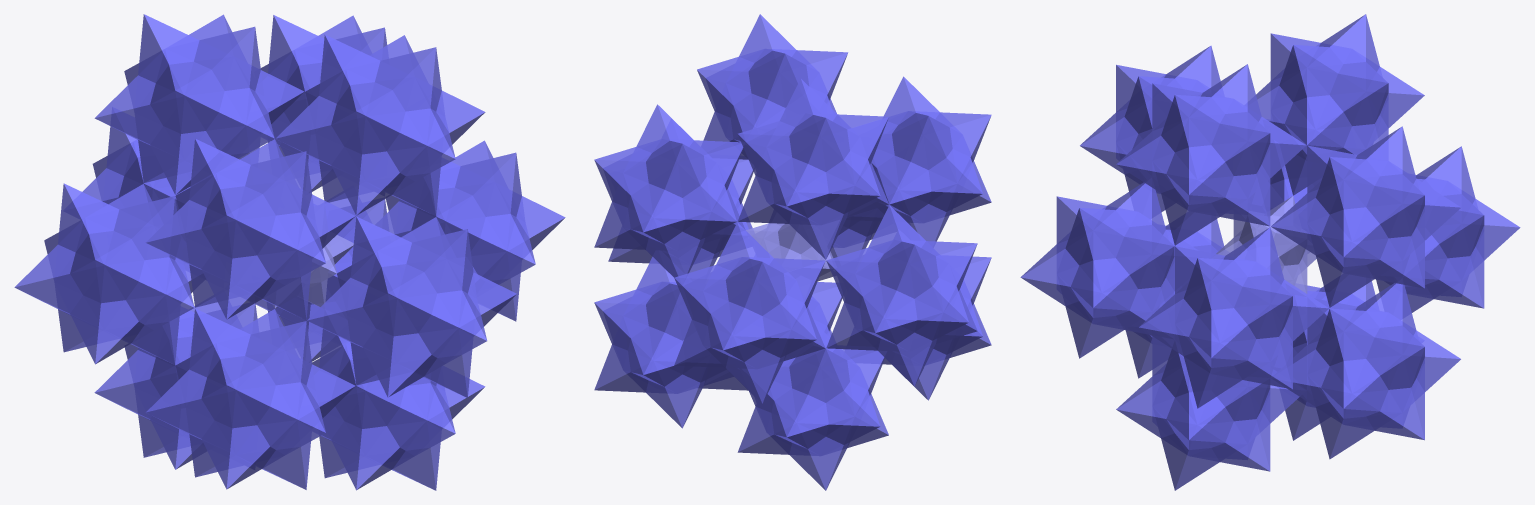
File: fractalmedialrhombictriacontahedron1.glb
3 renders of one model, left to right at view 1: azimuth 30°, elevation 25°; view 2: azimuth 150°, elevation 25°; view 3: azimuth 270°, elevation 25°, orthographic. The views are drawn at different scales.
Bounding box in the file's own units: 11.1 × 9.7 × 11.1.
